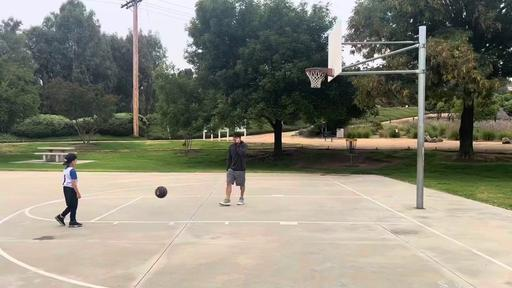ball: (154, 186, 168, 198)
human: (219, 132, 248, 207), (54, 154, 82, 228)
rim: (305, 67, 326, 88)
